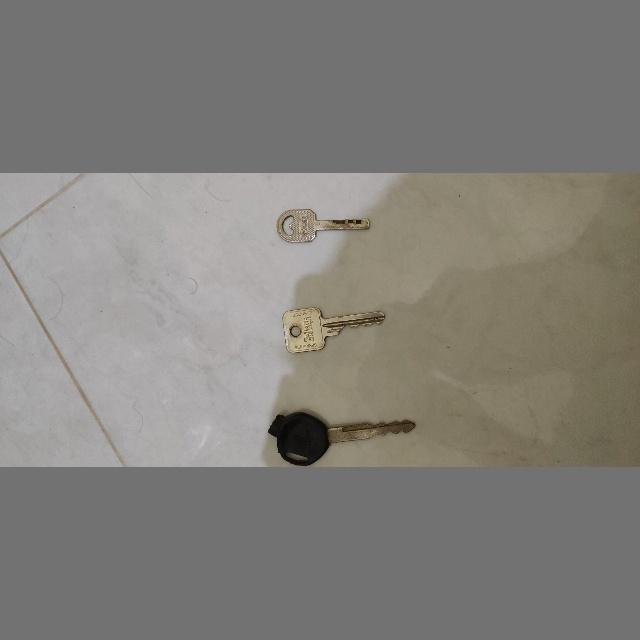Keys: (263, 409, 422, 467), (280, 308, 388, 356), (274, 205, 374, 248)
